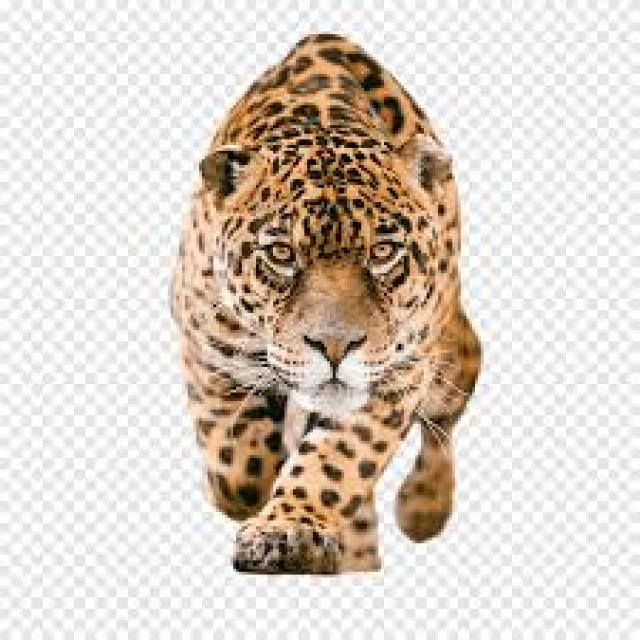Jaguar: (140, 3, 500, 597)
